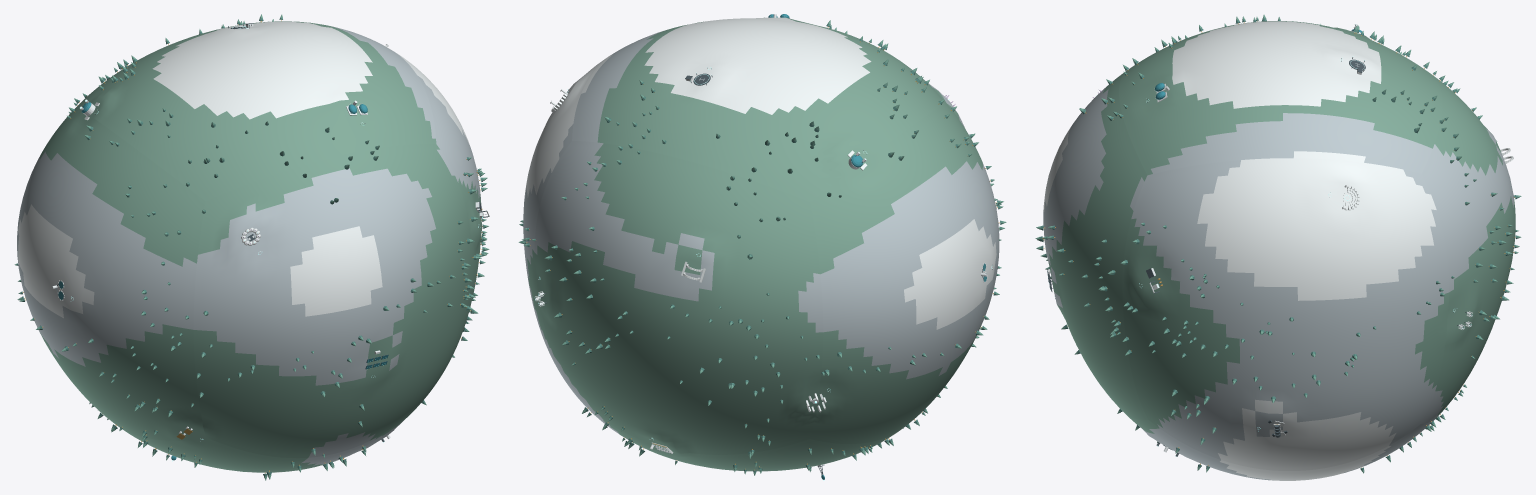
The model's file is elur_approach.glb.
3 renders of one model, left to right at view 1: azimuth 30°, elevation 25°; view 2: azimuth 150°, elevation 25°; view 3: azimuth 270°, elevation 25°, orthographic.
Parts seen in each view (by area): view 1: terrain_approach_4, terrain_approach_1, terrain_approach_2, terrain_approach_0, terrain_approach_3, grove_4, grove_1, grove_2, grove_0, grove_3; view 2: terrain_approach_5, terrain_approach_1, terrain_approach_2, terrain_approach_0, terrain_approach_3, grove_5, grove_2, grove_1, grove_3; view 3: terrain_approach_0, terrain_approach_2, terrain_approach_4, terrain_approach_5, terrain_approach_3, grove_0, grove_5, grove_2, grove_4.
Part boxes in pixels (left/top/right/bottom): terrain_approach_4: left=193, top=144, right=469, bottom=458; terrain_approach_1: left=17, top=107, right=205, bottom=440; terrain_approach_2: left=77, top=21, right=436, bottom=201; terrain_approach_0: left=396, top=53, right=482, bottom=384; terrain_approach_3: left=118, top=386, right=434, bottom=472; grove_4: left=196, top=145, right=474, bottom=457; grove_1: left=14, top=107, right=193, bottom=441; grove_2: left=98, top=14, right=369, bottom=186; grove_0: left=452, top=157, right=489, bottom=357; grove_3: left=89, top=400, right=426, bottom=480; terrain_approach_5: left=534, top=141, right=823, bottom=454; terrain_approach_1: left=810, top=104, right=999, bottom=443; terrain_approach_2: left=572, top=17, right=943, bottom=202; terrain_approach_0: left=523, top=55, right=610, bottom=391; terrain_approach_3: left=573, top=392, right=899, bottom=471; grove_5: left=532, top=146, right=819, bottom=458; grove_2: left=604, top=20, right=944, bottom=173; grove_1: left=821, top=114, right=1006, bottom=425; grove_3: left=582, top=408, right=927, bottom=475; terrain_approach_0: left=1122, top=158, right=1448, bottom=470; terrain_approach_2: left=1119, top=21, right=1442, bottom=175; terrain_approach_4: left=1043, top=71, right=1148, bottom=419; terrain_approach_5: left=1421, top=75, right=1515, bottom=423; terrain_approach_3: left=1126, top=414, right=1435, bottom=480; grove_0: left=1121, top=222, right=1445, bottom=444; grove_5: left=1430, top=71, right=1521, bottom=427; grove_2: left=1123, top=14, right=1444, bottom=133; grove_4: left=1035, top=79, right=1123, bottom=354.
Size of the model in its own units: 441 by 403 by 435.
